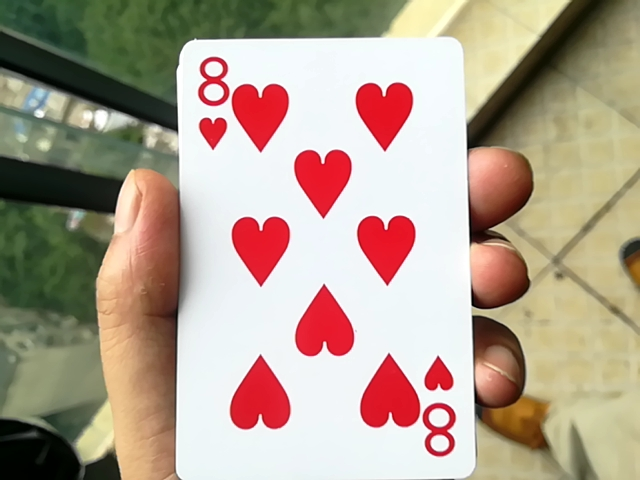hx 8: (144, 40, 474, 478)
